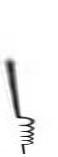inductor: (11, 106, 39, 148)
